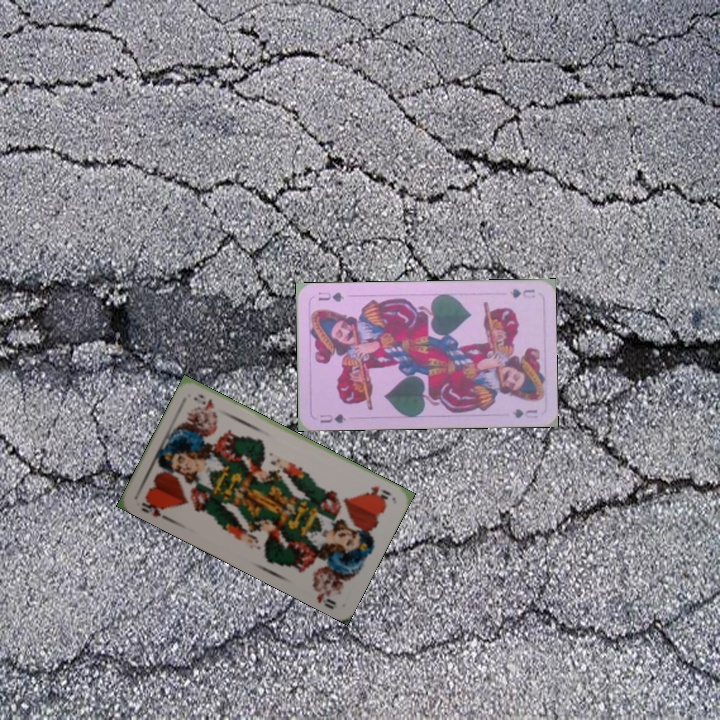GU: (316, 410, 348, 426), (506, 285, 538, 301)
HO: (137, 494, 169, 520), (362, 482, 393, 504)
